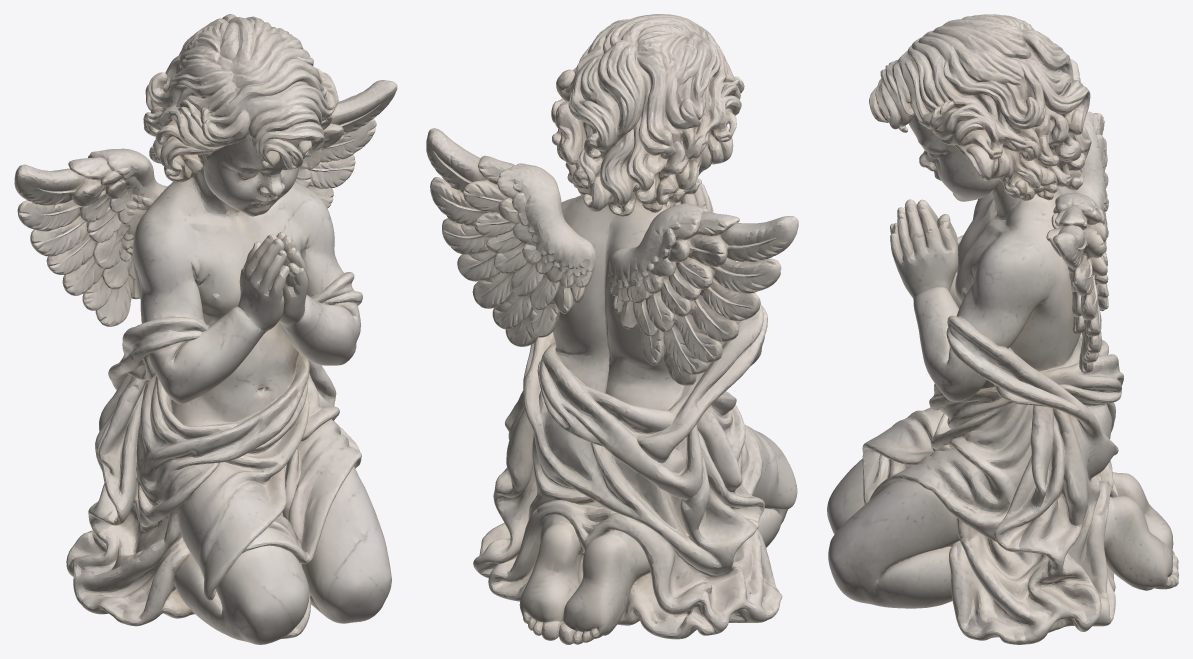
Rendered from cherub-hero.glb.
The picture shows the model from 3 angles, left to right: view 1: azimuth 30°, elevation 25°; view 2: azimuth 150°, elevation 25°; view 3: azimuth 270°, elevation 25°; orthographic projection.
Parts seen in each view (by area): view 1: model; view 2: model; view 3: model.
Boxes of the visible parts, box(x1,y1,x2,y2) form: model: box(14, 14, 397, 644); model: box(426, 14, 798, 644); model: box(827, 14, 1178, 644).
Size of the model in its own units: 1.33 by 1.9 by 1.08.
Materials: 1 (1 with a texture image).
